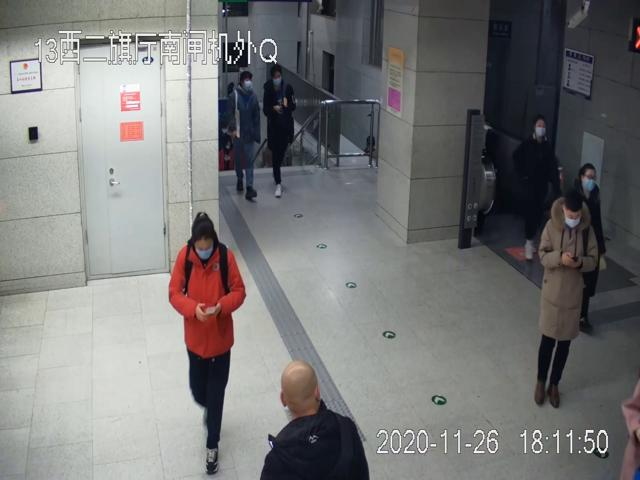person: (169, 213, 246, 476), (534, 188, 597, 405), (225, 71, 262, 199), (263, 64, 295, 196)
